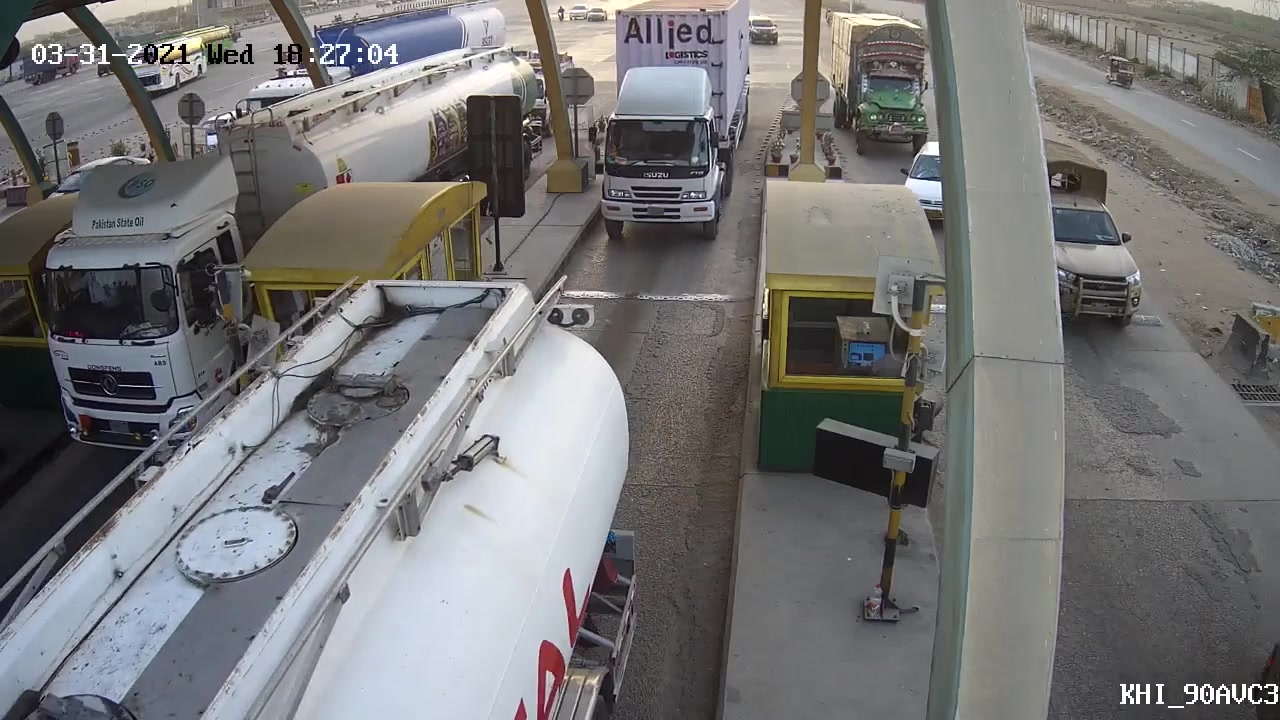F6: (581, 1, 751, 244)
